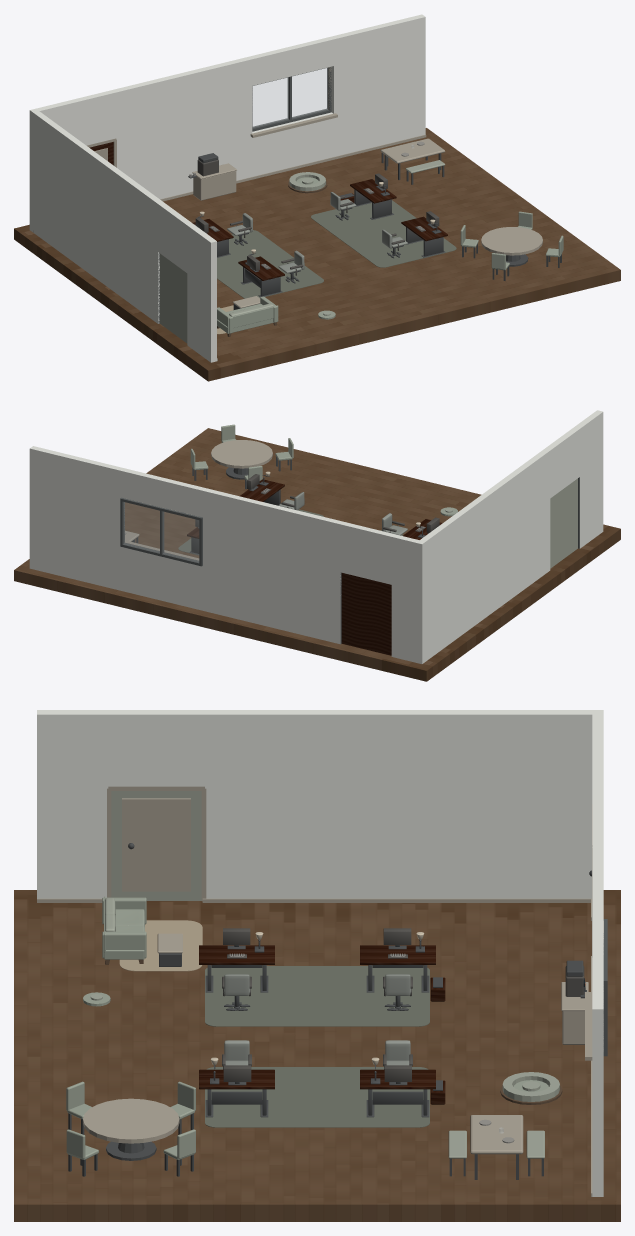
The model's file is vq1c-officeworld-full-pbr.glb.
3 renders of one model, top to bottom at view 1: azimuth 30°, elevation 25°; view 2: azimuth 150°, elevation 25°; view 3: azimuth 270°, elevation 25°, orthographic. The views are drawn at different scales.
Parts seen in each view (by area): view 1: FLOOR, LEFT_WALL_FRONT, BACK_WALL_CENTER, BACK_WALL_RIGHT, WORK_POD_RUG_RIGHT, LEFT_WALL_BACK, BACK_WALL_WINDOW_BOTTOM, WORK_POD_RUG_LEFT, WINDOW_GLASS, BACK_WALL_WINDOW_TOP, BACK_WALL_RESTROOM_LINTEL, ENTRANCE_DOOR_PANEL (+8 smaller); view 2: FLOOR, BACK_WALL_CENTER, LEFT_WALL_FRONT, BACK_WALL_RIGHT, BACK_WALL_LEFT, BACK_WALL_WINDOW_BOTTOM, RESTROOM_DOOR_PANEL, LEFT_WALL_BACK, WINDOW_GLASS, BACK_WALL_RESTROOM_LINTEL, BACK_WALL_WINDOW_TOP, ENTRANCE_DOOR_PANEL (+4 smaller); view 3: FLOOR, LEFT_WALL_FRONT, LEFT_WALL_BACK, WORK_POD_RUG_LEFT, WORK_POD_RUG_RIGHT, LEFT_WALL_ENTRANCE_LINTEL, ENTRANCE_DOOR_INSET, ENTRANCE_DOOR_PANEL, MEETING_TABLE_TOP, BACK_WALL_RIGHT, SOFA_RUG, DINING_TABLE_TOP (+12 smaller).
Boxes of the visible parts, left/top/right/bottom form: FLOOR: left=14, top=128, right=620, bottom=381; LEFT_WALL_FRONT: left=31, top=110, right=163, bottom=323; BACK_WALL_CENTER: left=111, top=56, right=252, bottom=199; BACK_WALL_RIGHT: left=331, top=14, right=425, bottom=156; WORK_POD_RUG_RIGHT: left=311, top=200, right=456, bottom=267; LEFT_WALL_BACK: left=187, top=224, right=216, bottom=362; BACK_WALL_WINDOW_BOTTOM: left=252, top=112, right=333, bottom=176; WORK_POD_RUG_LEFT: left=217, top=230, right=323, bottom=298; WINDOW_GLASS: left=253, top=68, right=327, bottom=127; BACK_WALL_WINDOW_TOP: left=249, top=37, right=333, bottom=85; BACK_WALL_RESTROOM_LINTEL: left=61, top=90, right=114, bottom=145; ENTRANCE_DOOR_PANEL: left=160, top=253, right=187, bottom=343; FLOOR: left=14, top=428, right=620, bottom=681; BACK_WALL_CENTER: left=203, top=488, right=343, bottom=644; LEFT_WALL_FRONT: left=420, top=449, right=550, bottom=662; BACK_WALL_RIGHT: left=29, top=446, right=124, bottom=590; BACK_WALL_LEFT: left=391, top=534, right=425, bottom=663; BACK_WALL_WINDOW_BOTTOM: left=121, top=547, right=202, bottom=610; RESTROOM_DOOR_PANEL: left=341, top=573, right=391, bottom=655; LEFT_WALL_BACK: left=574, top=410, right=603, bottom=548; WINDOW_GLASS: left=123, top=502, right=198, bottom=561; BACK_WALL_RESTROOM_LINTEL: left=340, top=522, right=394, bottom=584; BACK_WALL_WINDOW_TOP: left=121, top=468, right=205, bottom=517; ENTRANCE_DOOR_PANEL: left=550, top=478, right=577, bottom=568; FLOOR: left=14, top=890, right=620, bottom=1221; LEFT_WALL_FRONT: left=202, top=710, right=597, bottom=898; LEFT_WALL_BACK: left=37, top=710, right=110, bottom=898; WORK_POD_RUG_LEFT: left=205, top=966, right=429, bottom=1026; WORK_POD_RUG_RIGHT: left=205, top=1067, right=429, bottom=1127; LEFT_WALL_ENTRANCE_LINTEL: left=110, top=710, right=202, bottom=786; ENTRANCE_DOOR_INSET: left=122, top=798, right=190, bottom=891; ENTRANCE_DOOR_PANEL: left=111, top=791, right=201, bottom=900; MEETING_TABLE_TOP: left=83, top=1098, right=179, bottom=1143; BACK_WALL_RIGHT: left=592, top=939, right=603, bottom=1196; SOFA_RUG: left=119, top=920, right=202, bottom=971; DINING_TABLE_TOP: left=470, top=1115, right=523, bottom=1154.
Size of the model in its own units: 16.2 by 4.91 by 13.2.
19 materials, 2 textured.
